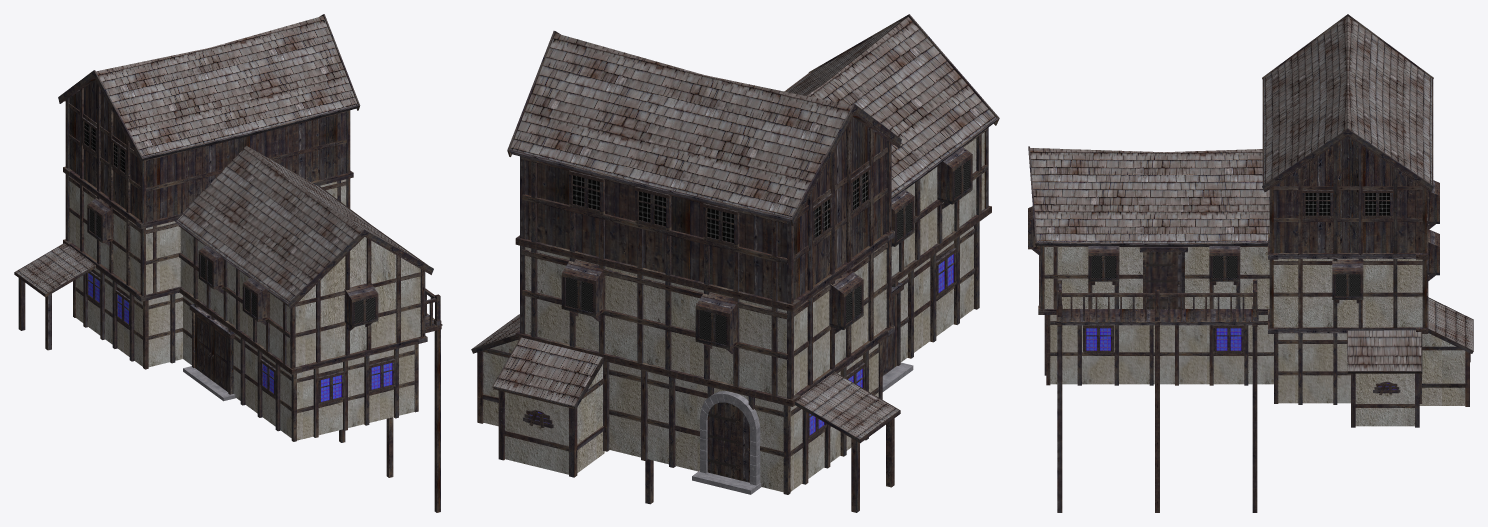
The model's file is thouse14.dae.
3 views of the same model, side by side, from view 1: azimuth 30°, elevation 25°; view 2: azimuth 150°, elevation 25°; view 3: azimuth 270°, elevation 25° (orthographic). The views are drawn at different scales.
Visible parts, largest first — view 1: House2_Roof, House1_Roof, House1_Level2, House2_Level3, House1_Level1, House2_Level3_Beams, House2_Level2, House1_Level2_Beams, House1_Level1_Beams, House2_Level1, House2_Level2_Beams, House2_Level1_Beams (+16 smaller); view 2: House2_Roof, House2_Level3, House2_Level2, House1_Roof, House2_Level1, House2_Level3_Beams, House2_Level2_Beams, House2_Level1_Beams, BuildingExtensions4_001, BuildingExtensions4Roof_001, House1_Level1, Roof2Outer (+31 smaller); view 3: House1_Roof, House2_Roof, House2_Level3, House1_Level1, House2_Level2, House1_Level2, House2_Level1, House2_Level3_Beams, Balcony4Stilts, Balcony4, BuildingExtensions4Roof, House1_Level1_Beams (+29 smaller).
Boxes of the visible parts, x1,y1,x2,y2 form: House2_Roof: (96,16,357,157); House1_Roof: (176,146,419,302); House1_Level2: (180,228,420,366); House2_Level3: (69,80,346,221); House1_Level1: (183,295,414,440); House2_Level3_Beams: (65,83,350,223); House2_Level2: (69,177,346,294); House1_Level2_Beams: (179,225,425,368); House1_Level1_Beams: (182,297,418,441); House2_Level1: (76,268,182,367); House2_Level2_Beams: (65,174,350,296); House2_Level1_Beams: (73,269,182,369); House2_Roof: (510,33,852,217); House2_Level3: (525,117,886,302); House2_Level2: (525,243,886,397); House1_Roof: (786,17,995,195); House2_Level1: (609,343,878,492); House2_Level3_Beams: (520,120,891,303); House2_Level2_Beams: (520,240,891,399); House2_Level1_Beams: (603,341,882,494); BuildingExtensions4_001: (505,364,604,474); BuildingExtensions4Roof_001: (493,337,602,405); House1_Level1: (898,226,973,361); Roof2Outer: (796,372,898,438); House1_Roof: (1030,148,1269,243); House2_Roof: (1264,16,1431,184); House2_Level3: (1273,136,1422,252); House1_Level1: (1050,315,1273,384); House2_Level2: (1273,259,1422,327); House1_Level2: (1044,247,1269,308); House2_Level1: (1278,333,1350,403); House2_Level3_Beams: (1269,143,1427,253); Balcony4Stilts: (1057,326,1257,512); Balcony4: (1056,279,1258,322); BuildingExtensions4Roof: (1348,330,1421,370); House1_Level1_Beams: (1044,315,1273,385).
Size of the model in its own units: 11.38 by 14.35 by 14.09.
Materials: 29 (29 with a texture image).
